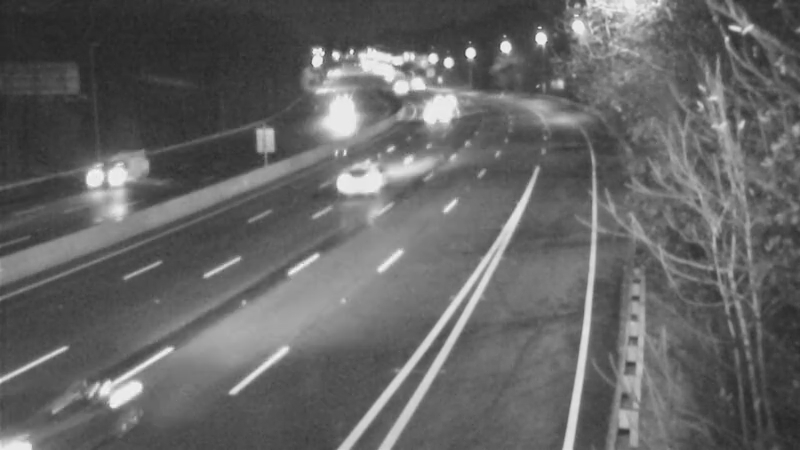vehicle: (1, 357, 108, 450), (331, 141, 411, 221), (70, 141, 150, 221), (409, 74, 459, 124), (409, 86, 459, 136), (309, 89, 359, 139)
